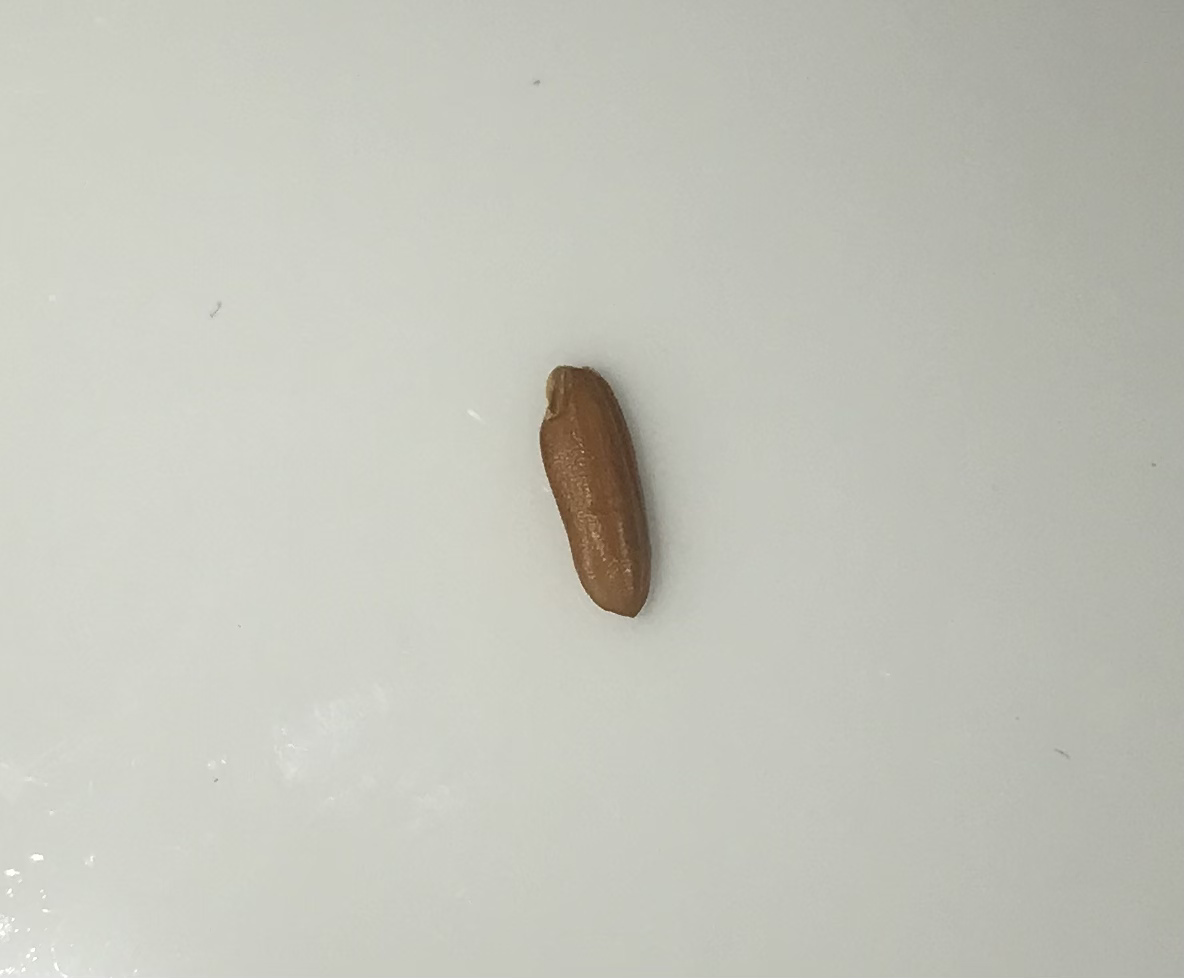Gao Lut Dien Bien: (521, 362, 685, 630)
